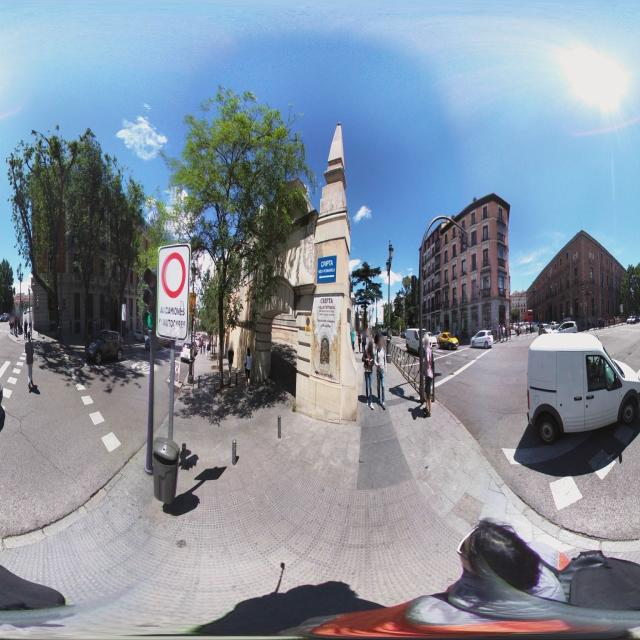car: (525, 345, 640, 447), (85, 330, 125, 364), (404, 326, 422, 356), (124, 330, 148, 352), (470, 328, 493, 348), (180, 339, 198, 362), (438, 330, 458, 350), (559, 319, 579, 333)
